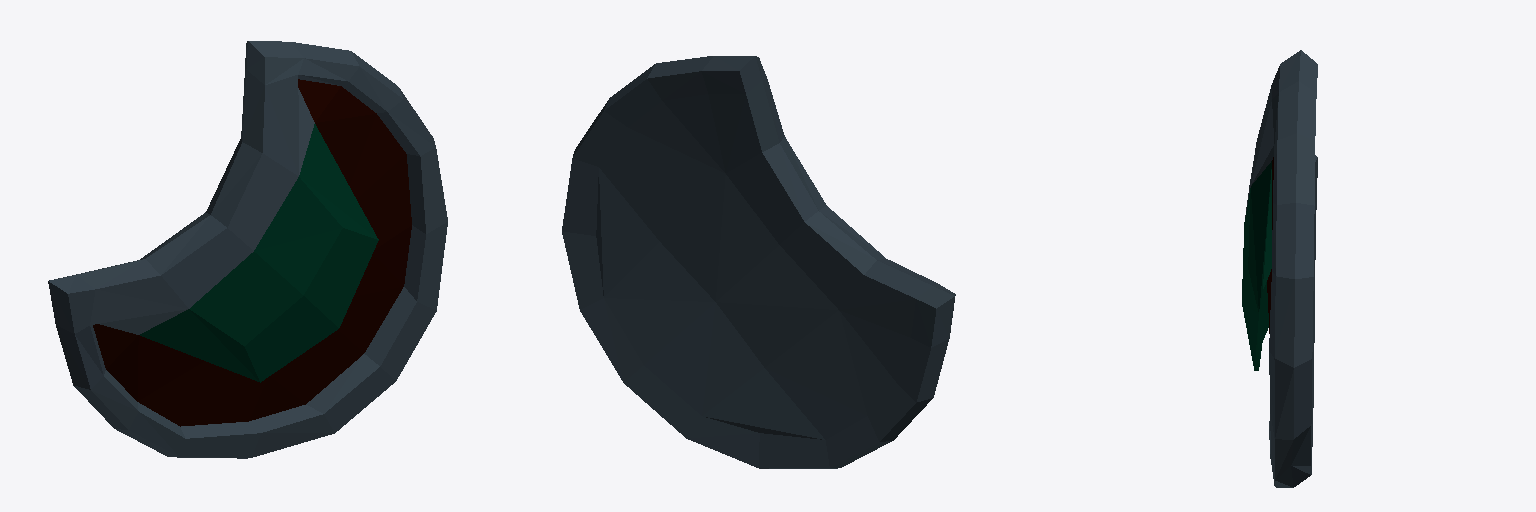
The model's file is HalfMoon.obj.
The picture shows the model from 3 angles: view 1: azimuth 30°, elevation 25°; view 2: azimuth 150°, elevation 25°; view 3: azimuth 270°, elevation 25°; orthographic projection.
Visible parts, largest first — view 1: HalfMoon_Circle.002; view 2: HalfMoon_Circle.002; view 3: HalfMoon_Circle.002.
Part boxes in pixels (bbox=[...]): HalfMoon_Circle.002: bbox=[48, 41, 447, 458]; HalfMoon_Circle.002: bbox=[562, 56, 955, 468]; HalfMoon_Circle.002: bbox=[1242, 50, 1317, 487].
Size of the model in its own units: 0.8366 by 0.8389 by 0.1404.